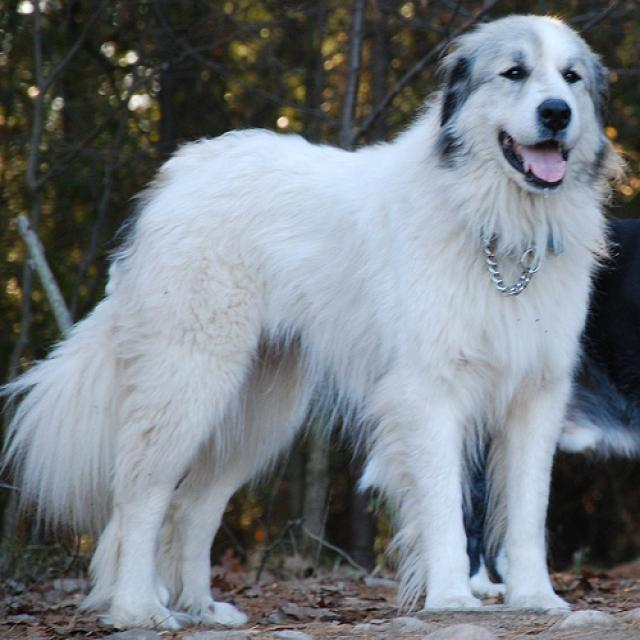dog-great_pyrenees: (1, 7, 634, 637)
